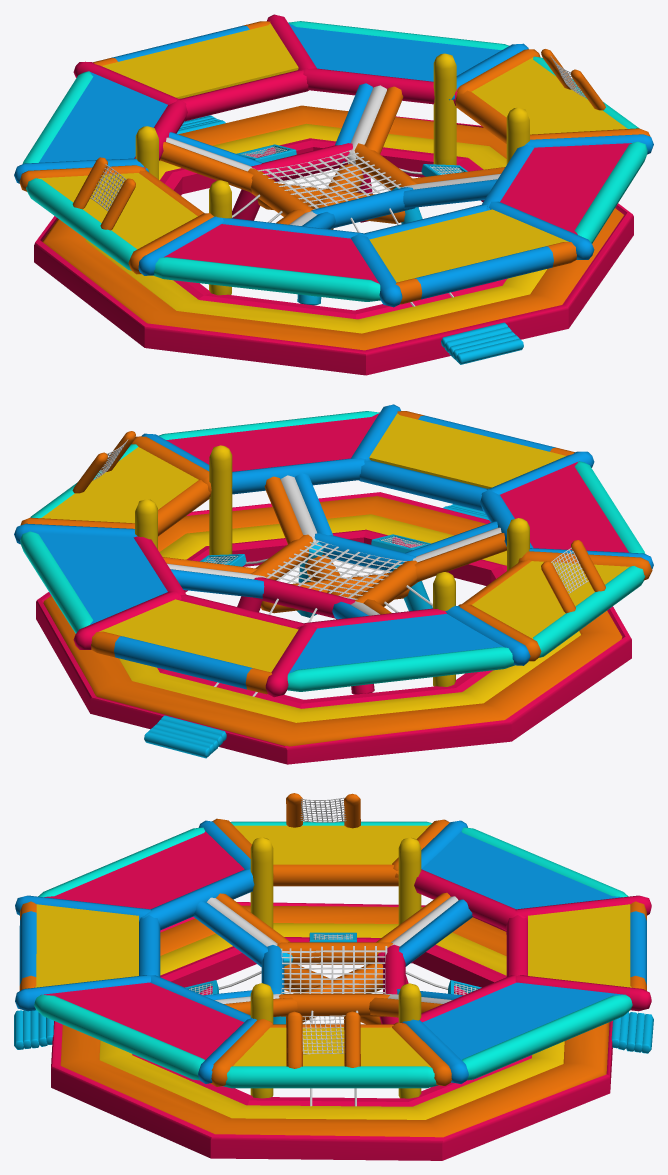
The model's file is centroSeparado.fbx.
3 renders of one model, top to bottom at view 1: azimuth 30°, elevation 25°; view 2: azimuth 150°, elevation 25°; view 3: azimuth 270°, elevation 25°, orthographic.
Parts seen in each view (by area): view 1: polySurface12, polySurface19, polySurface18, polySurface98, polySurface68, polySurface90, polySurface87, polySurface99, polySurface49, polySurface86, pCube36, polySurface55 (+47 smaller); view 2: polySurface19, polySurface12, polySurface18, polySurface68, polySurface98, polySurface99, polySurface49, polySurface90, polySurface87, polySurface86, pCube36, polySurface92 (+45 smaller); view 3: polySurface12, polySurface19, polySurface18, polySurface98, polySurface68, polySurface99, polySurface49, polySurface87, polySurface90, polySurface76, pCube36, polySurface86 (+42 smaller).
Boxes of the visible parts, x1,y1,x2,y2 form: polySurface12: (34,116,633,375); polySurface19: (42,105,623,350); polySurface18: (85,123,546,333); polySurface98: (101,23,298,98); polySurface68: (369,209,568,282); polySurface90: (164,224,379,284); polySurface87: (500,143,631,234); polySurface99: (39,72,167,162); polySurface49: (288,23,501,81); polySurface86: (471,57,627,134); pCube36: (135,53,529,295); polySurface55: (153,257,380,301); polySurface19: (43,496,622,746); polySurface12: (36,492,631,764); polySurface18: (119,514,580,722); polySurface68: (369,413,565,488); polySurface98: (99,599,298,672); polySurface99: (288,614,503,674); polySurface49: (36,533,167,624); polySurface90: (500,461,628,552); polySurface87: (166,412,379,471); polySurface86: (39,447,198,523); pCube36: (135,445,529,686); polySurface92: (287,647,514,691); polySurface12: (51,902,612,1160); polySurface19: (60,905,609,1137); polySurface18: (99,923,564,1119); polySurface98: (528,904,631,987); polySurface68: (35,904,138,987); polySurface99: (421,831,622,909); polySurface49: (423,982,625,1059); polySurface87: (44,982,243,1059); polySurface90: (44,831,244,909); polySurface76: (234,824,430,864); pCube36: (250,837,421,1098); polySurface86: (233,1027,431,1067).
Size of the model in its own units: 4826 by 1367 by 5132.
